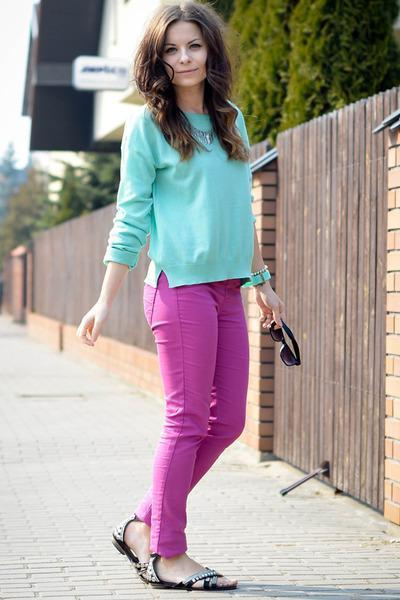jacket: (227, 100, 246, 131)
pants: (116, 276, 248, 563)
shirt: (103, 108, 275, 291)
shoe: (113, 516, 227, 590)
skirt: (276, 325, 300, 365)
